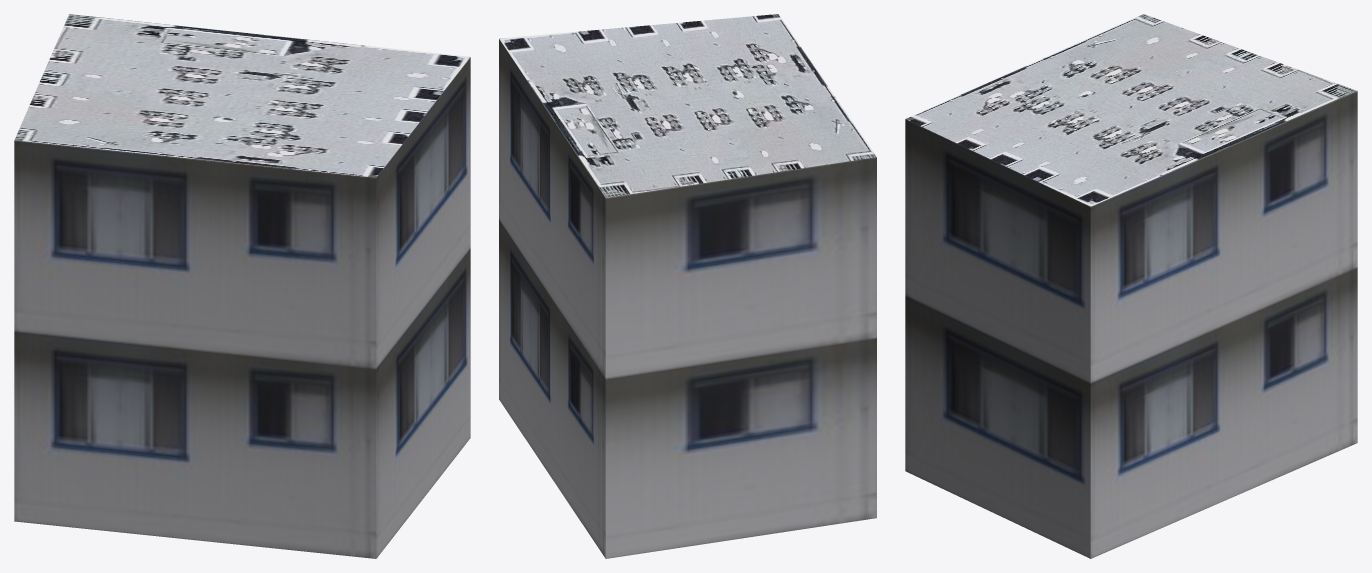
Rendered from ResTex__2788.fbx.
3 views of the same model, side by side, from view 1: azimuth 30°, elevation 25°; view 2: azimuth 150°, elevation 25°; view 3: azimuth 270°, elevation 25° (orthographic). The views are drawn at different scales.
Visible parts, largest first — view 1: CityEngineMaterial_9_m, CityEngineMaterial_4_m; view 2: CityEngineMaterial_9_m, CityEngineMaterial_4_m; view 3: CityEngineMaterial_9_m, CityEngineMaterial_4_m.
Boxes of the visible parts, <box> form: CityEngineMaterial_9_m: <box>14,57,470,558</box>; CityEngineMaterial_4_m: <box>14,14,469,177</box>; CityEngineMaterial_9_m: <box>499,39,876,558</box>; CityEngineMaterial_4_m: <box>499,14,876,197</box>; CityEngineMaterial_9_m: <box>905,91,1357,558</box>; CityEngineMaterial_4_m: <box>906,14,1356,206</box>.
Bounding box in the file's own units: 7.04 × 6 × 6.98.
Materials: 2 (2 with a texture image).
